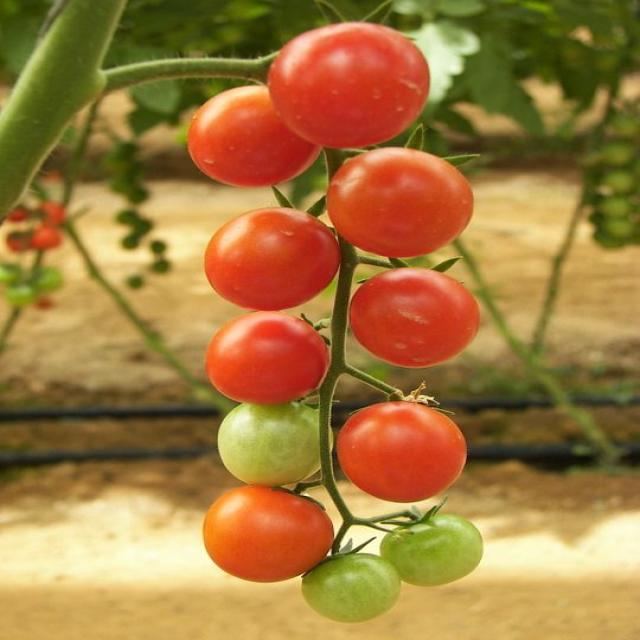level 3: (216, 399, 336, 486), (378, 510, 483, 584), (302, 547, 398, 623)
level 5: (202, 480, 335, 586)
level 6: (273, 21, 432, 151), (330, 145, 480, 261), (204, 208, 340, 312), (348, 267, 482, 371), (337, 397, 472, 499), (190, 84, 318, 188), (206, 309, 332, 403)
